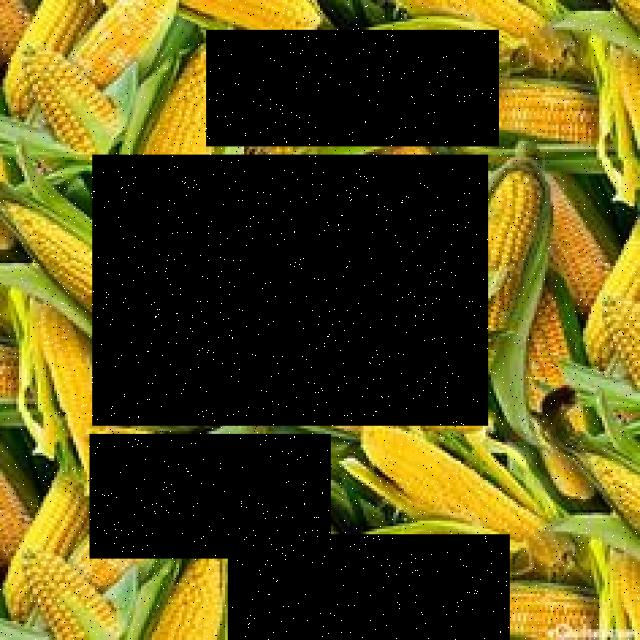Corn: (92, 156, 488, 428), (209, 30, 501, 147), (91, 436, 332, 561), (228, 534, 510, 640)
